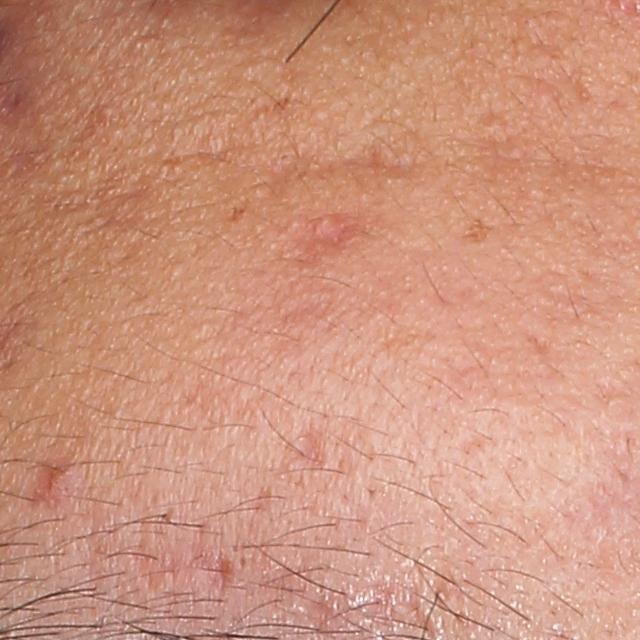atrophic_scar: (163, 55, 351, 194), (104, 524, 302, 597), (264, 213, 385, 267), (276, 419, 376, 481), (355, 137, 457, 180)
papule: (35, 468, 74, 503)
